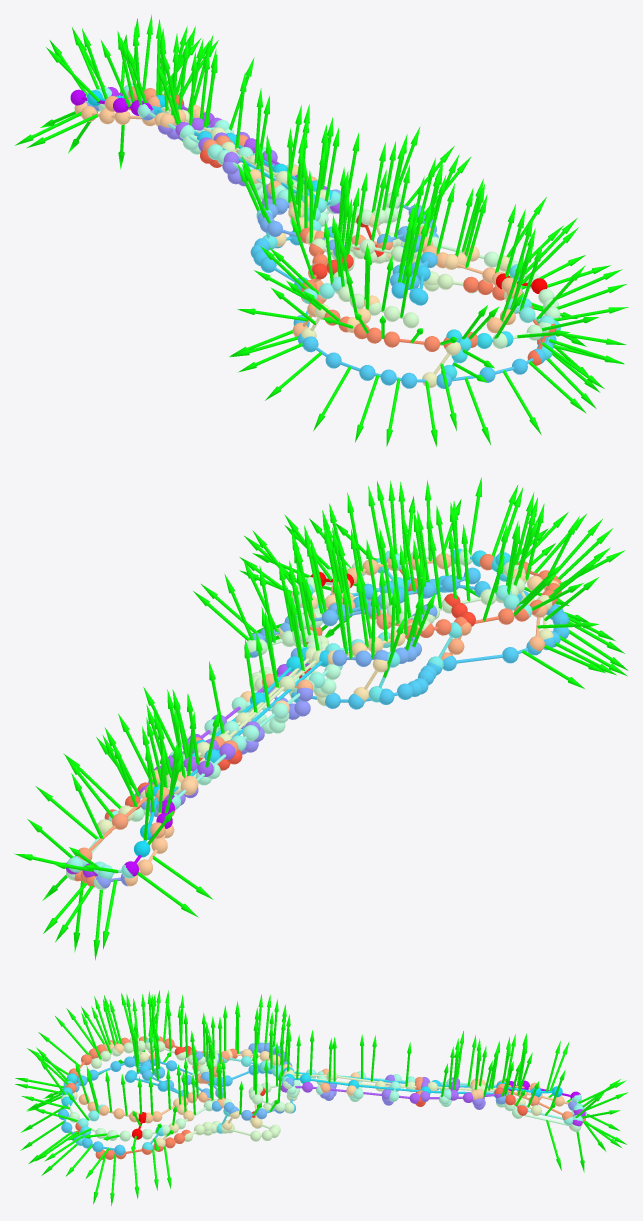
Rendered from author2_guitar.gltf.
3 views of the same model, one above another, from view 1: azimuth 30°, elevation 25°; view 2: azimuth 150°, elevation 25°; view 3: azimuth 270°, elevation 25° (orthographic). The views are drawn at different scales.
Bounding box in the file's own units: 0.5211 × 0.2941 × 1.11.
